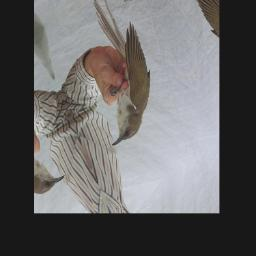Cuckoo: (60, 0, 170, 151)
